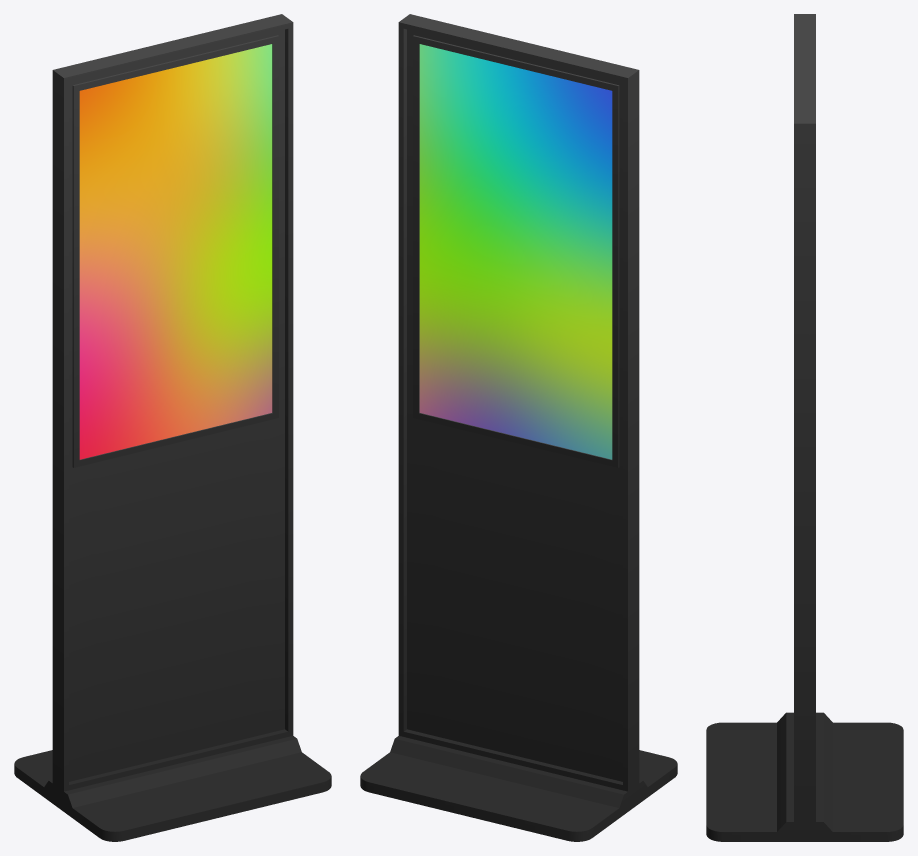
The model's file is digital_information_kiosk_01_small.glb.
3 views of the same model, side by side, from view 1: azimuth 30°, elevation 25°; view 2: azimuth 150°, elevation 25°; view 3: azimuth 270°, elevation 25° (orthographic). The views are drawn at different scales.
Parts seen in each view (by area): view 1: digital_information_kiosk_01_small; view 2: digital_information_kiosk_01_small; view 3: digital_information_kiosk_01_small.
Part boxes in pixels (box(x1,y1,x2,y2)): digital_information_kiosk_01_small: box(14, 14, 331, 841); digital_information_kiosk_01_small: box(360, 14, 677, 841); digital_information_kiosk_01_small: box(706, 14, 903, 841).
Size of the model in its own units: 0.592 by 1.81 by 0.45.
2 materials, 2 textured.
